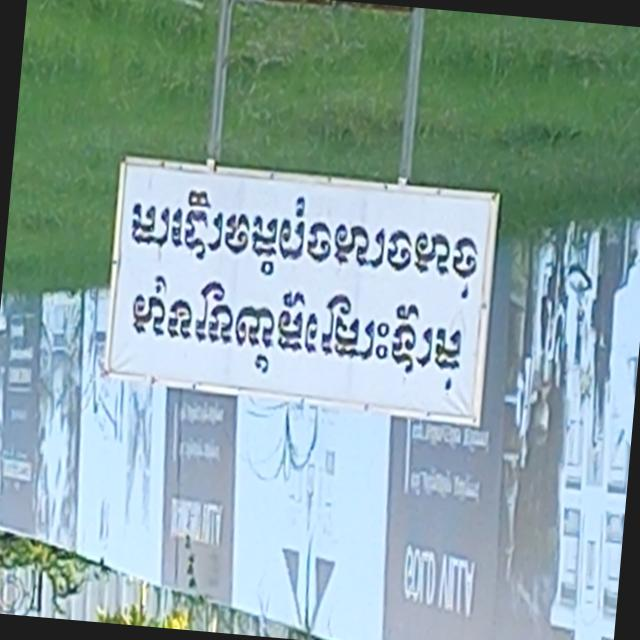Yolov11kh: (123, 268, 475, 402), (126, 175, 488, 304)
